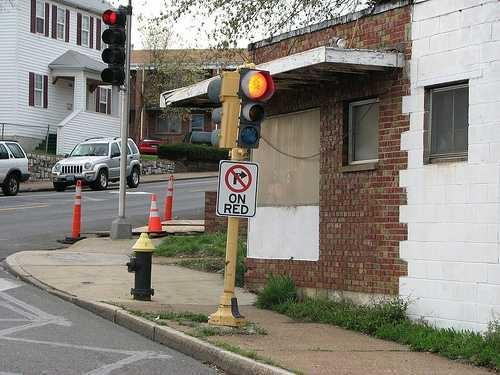red: (232, 62, 277, 152), (100, 3, 127, 87), (240, 63, 274, 99), (103, 7, 126, 29)
